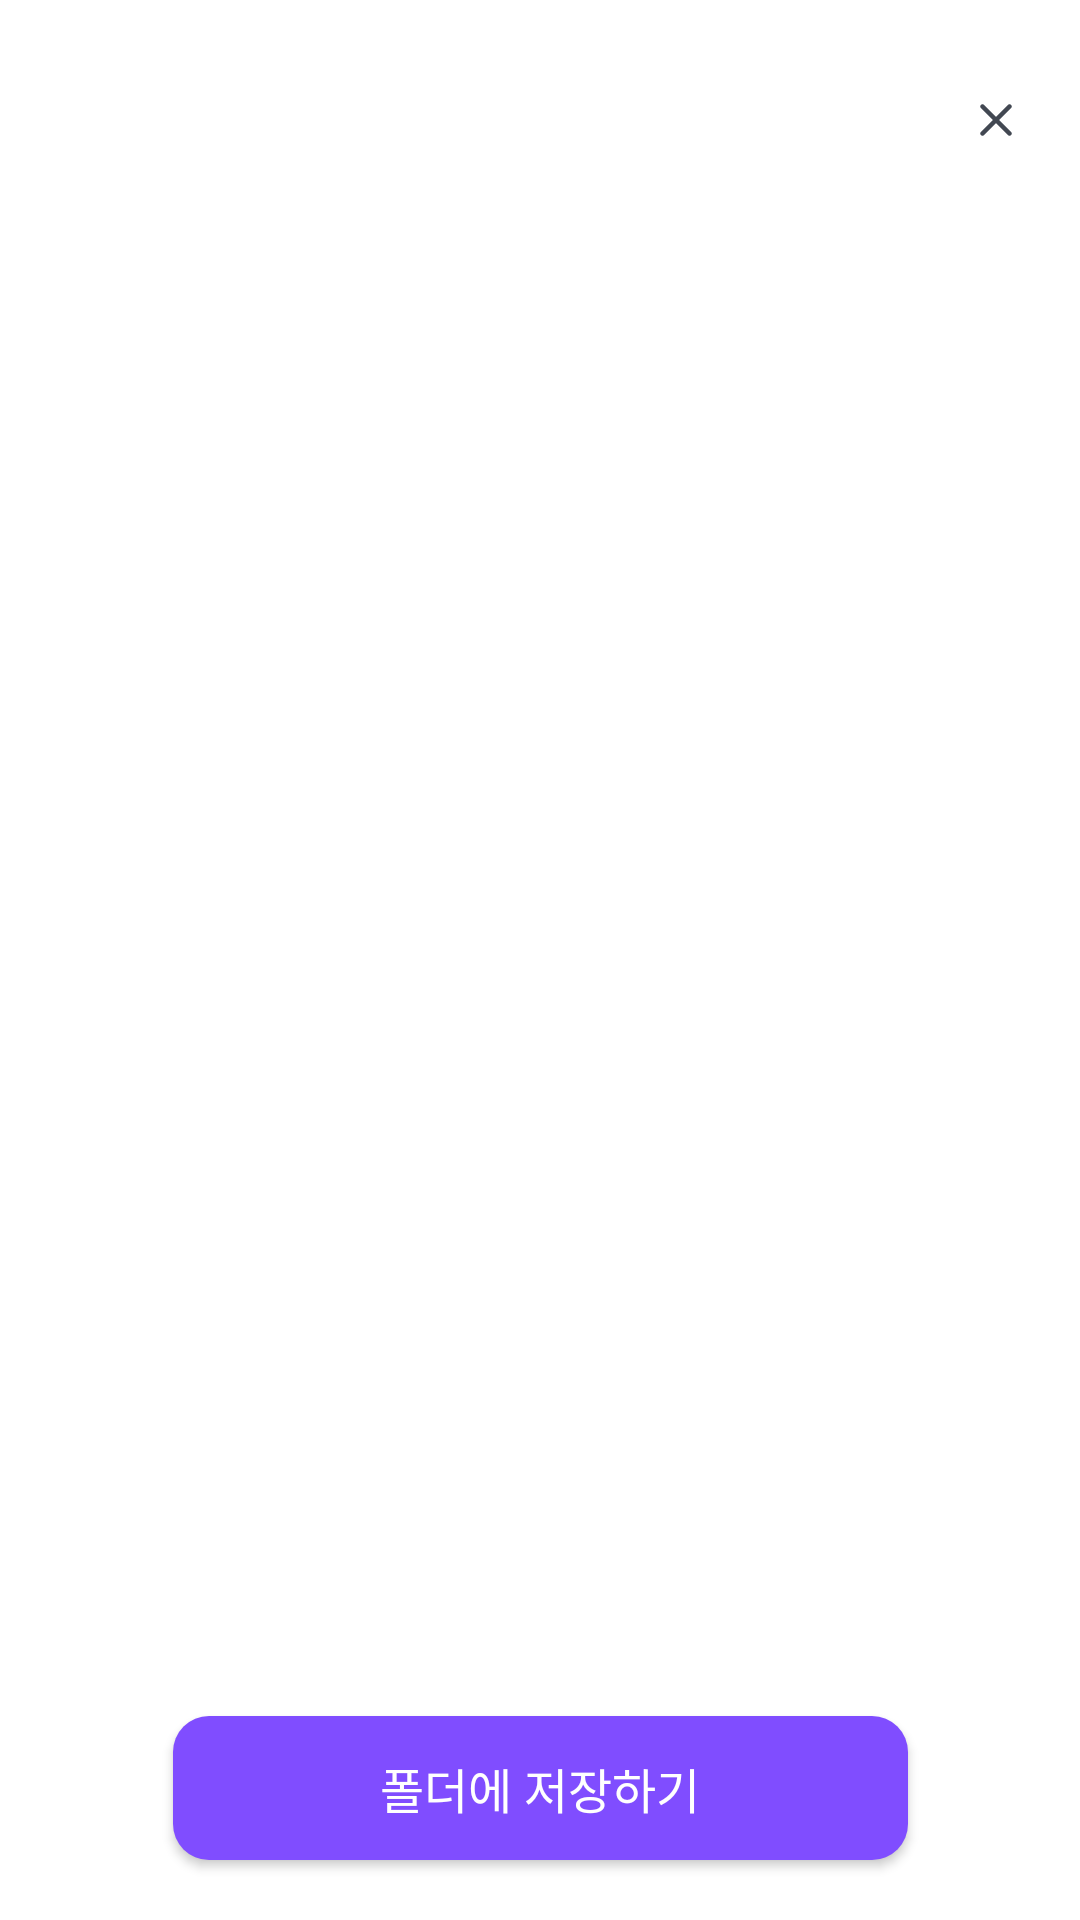

Where icons sit on this 1080x1920 app screen, as (x1, y1, x2, y2):
창 닫기: (980, 104, 1012, 136)
